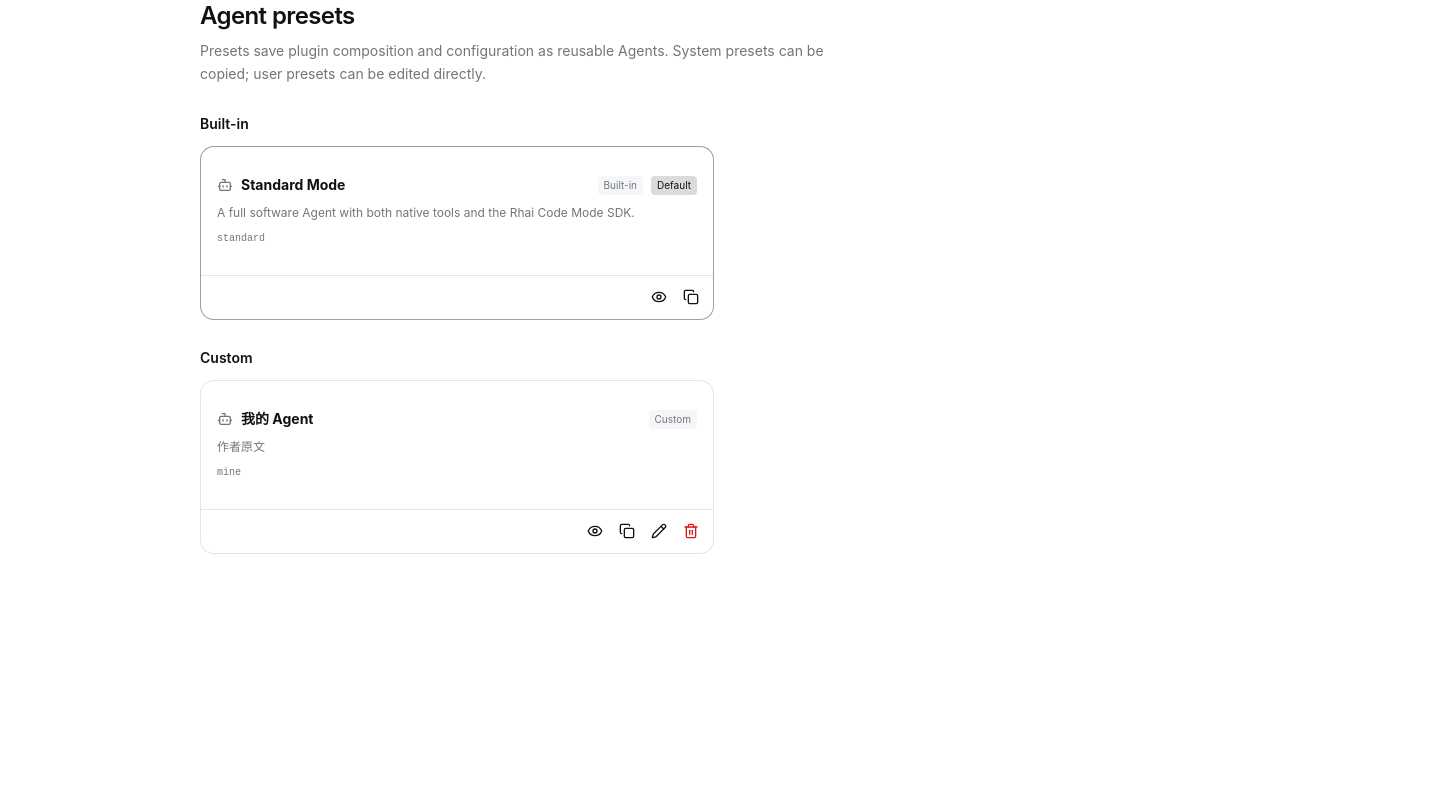
system preset localization › localizes the card and view while retaining user-authored metadata
The image size is (1440, 810).
Click the button named "View: Standard Mode".
click(659, 297)  # box 645,283 -> 673,311
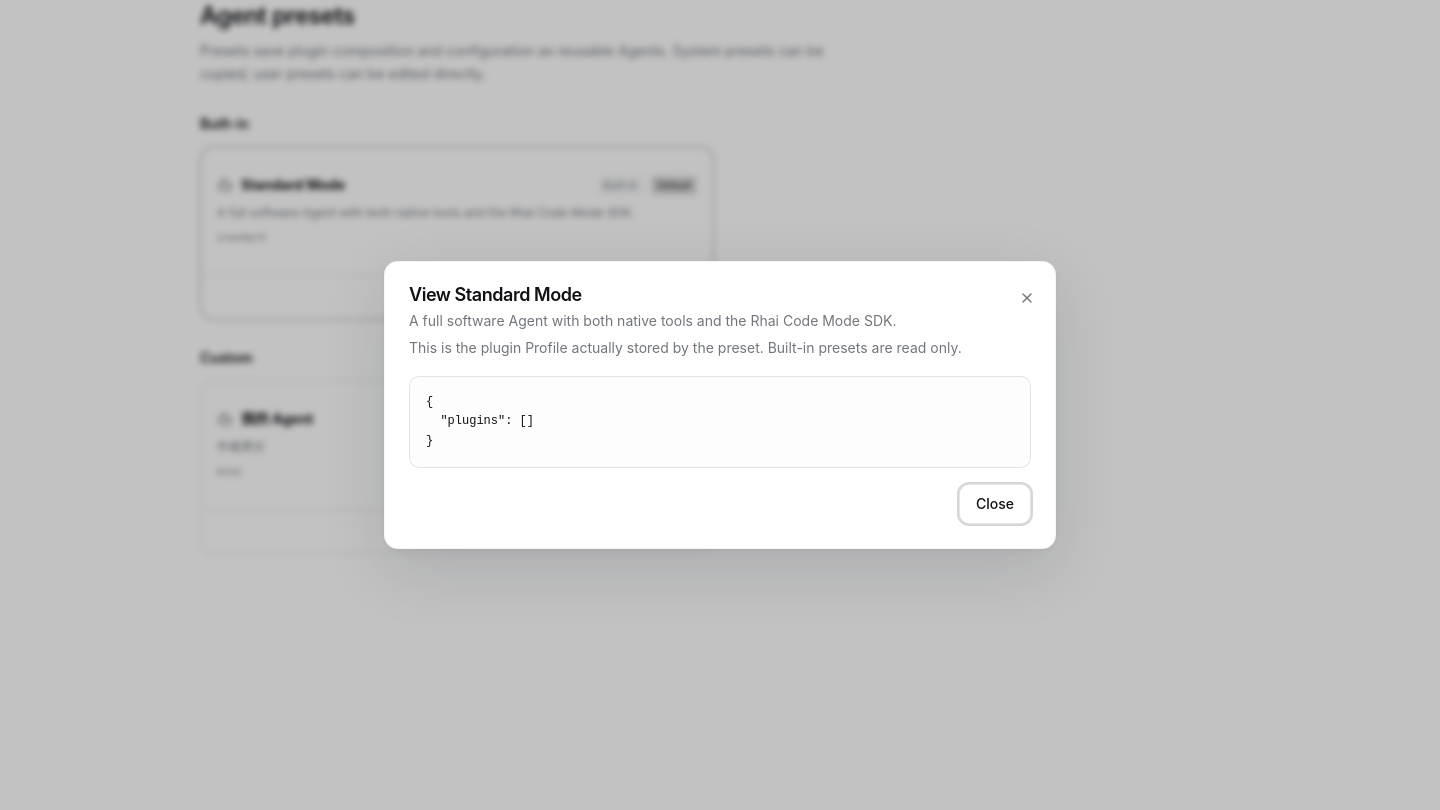
Expected: the text "A full software Agent with both native tools and the Rhai Code Mode SDK." is shown, 217,203 -> 697,223
Expected: the text "View Standard Mode" is shown, 409,284 -> 582,305
